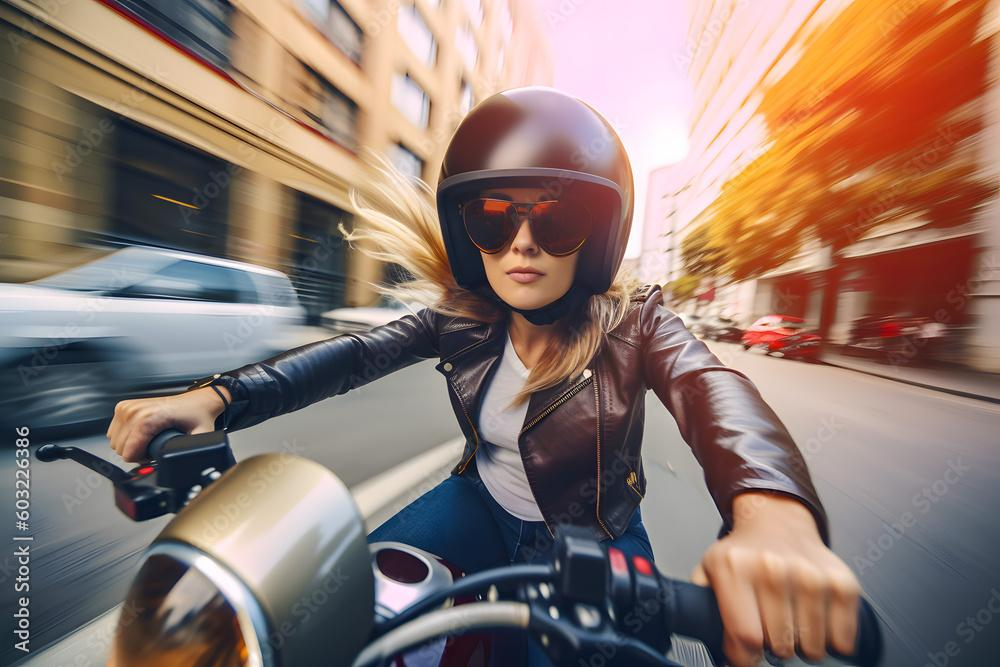helmet: (436, 84, 636, 327)
